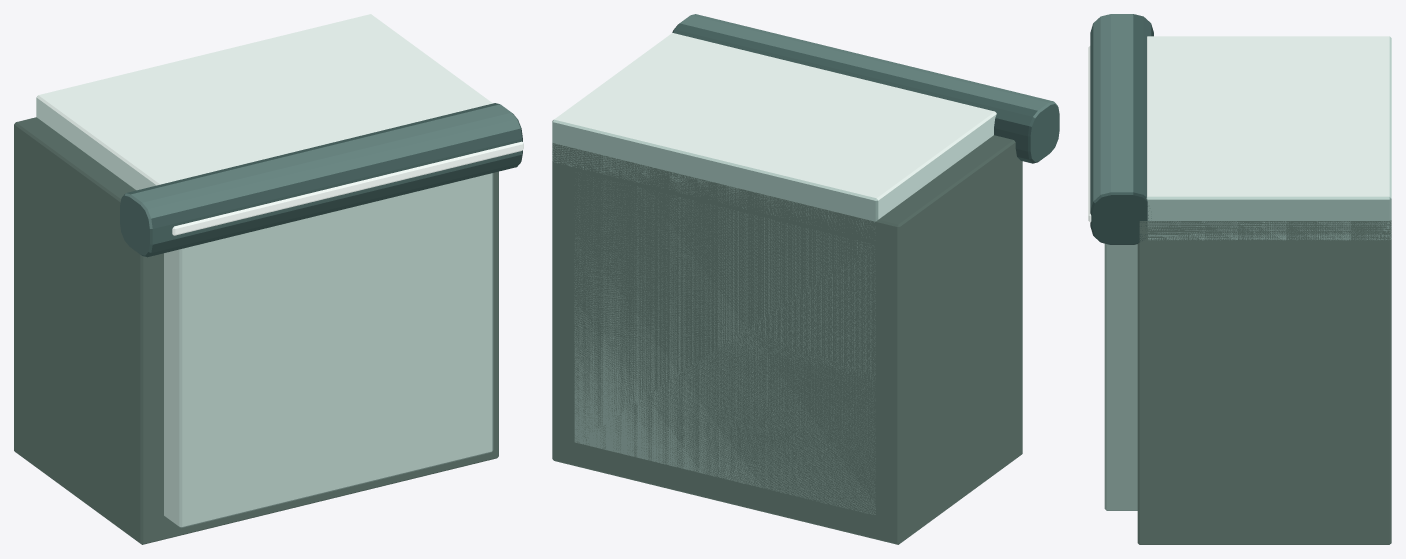
File: Terrain_TopRun1L.gltf
3 renders of one model, left to right at view 1: azimuth 30°, elevation 25°; view 2: azimuth 150°, elevation 25°; view 3: azimuth 270°, elevation 25°, orthographic. The views are drawn at different scales.
Visible parts, largest first — view 1: Terrain_TopRun1L_baked; view 2: Terrain_TopRun1L_baked; view 3: Terrain_TopRun1L_baked.
Part boxes in pixels (x1,y1,x2,y2): Terrain_TopRun1L_baked: (14, 14, 523, 544); Terrain_TopRun1L_baked: (552, 14, 1059, 544); Terrain_TopRun1L_baked: (1088, 14, 1391, 544).
Size of the model in its own units: 1.04 by 0.9495 by 0.74.
